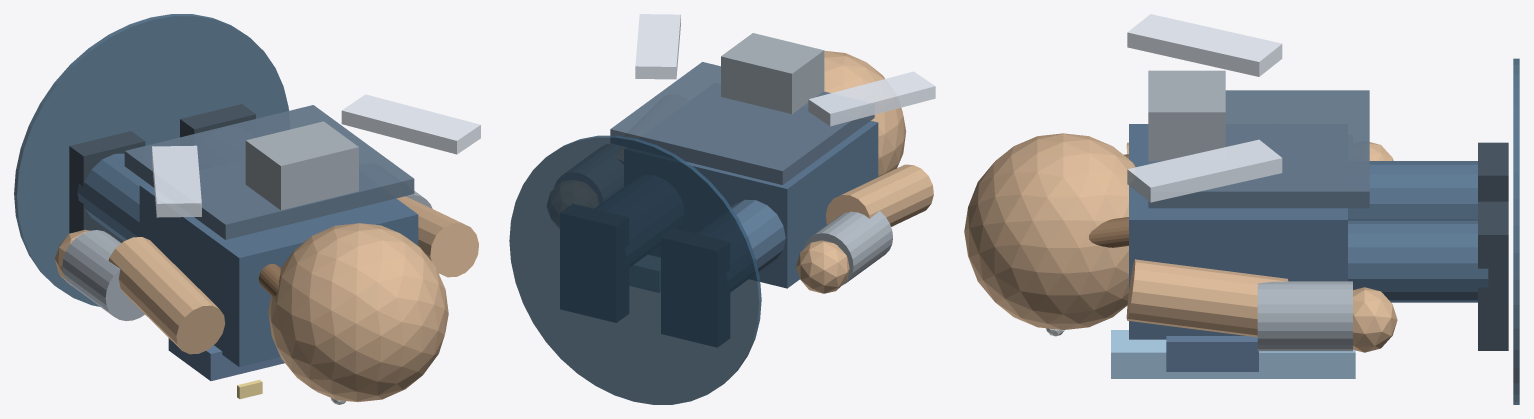
Rendered from SW_NPC_003_cyra_brightmast.glb.
3 views of the same model, side by side, from view 1: azimuth 30°, elevation 25°; view 2: azimuth 150°, elevation 25°; view 3: azimuth 270°, elevation 25° (orthographic). The views are drawn at different scales.
Parts seen in each view (by area): view 1: round_base_plate, head, torso_uniform, storm_cloak, wingpack_core, left_upper_arm, right_wing_rig, left_forearm_gauntlet, left_leg, left_wing_rig, right_upper_arm, left_boot (+4 smaller); view 2: round_base_plate, storm_cloak, torso_uniform, wingpack_core, left_upper_arm, left_wing_rig, head, left_forearm_gauntlet, right_wing_rig, left_leg, left_hand; view 3: head, storm_cloak, torso_uniform, right_leg, right_upper_arm, left_leg, right_forearm_gauntlet, wingpack_core, rank_sash, right_wing_rig, left_wing_rig, right_boot (+5 smaller).
Boxes of the visible parts, x1,y1,x2,y2 form: round_base_plate: (14,14,288,306); head: (268,223,448,402); torso_uniform: (139,183,418,366); storm_cloak: (124,105,414,239); wingpack_core: (245,121,358,210); left_upper_arm: (108,237,225,354); right_wing_rig: (341,94,480,154); left_forearm_gauntlet: (62,230,144,320); left_leg: (77,153,147,240); left_wing_rig: (152,145,201,217); right_upper_arm: (396,196,478,277); left_boot: (69,131,145,242); round_base_plate: (509,135,761,404); storm_cloak: (610,62,874,184); torso_uniform: (686,121,878,288); wingpack_core: (721,33,824,113); left_upper_arm: (825,164,933,226); left_wing_rig: (808,71,935,126); head: (824,50,906,176); left_forearm_gauntlet: (803,211,892,285); right_wing_rig: (635,14,680,79); left_leg: (731,199,785,271); left_hand: (796,240,849,293); head: (964,133,1135,329); storm_cloak: (1148,90,1369,208); torso_uniform: (1129,124,1347,339); right_leg: (1348,220,1488,302); right_upper_arm: (1126,259,1288,337); left_leg: (1348,161,1477,220); right_forearm_gauntlet: (1257,281,1352,351); wingpack_core: (1148,70,1225,160); rank_sash: (1111,330,1355,378); right_wing_rig: (1127,139,1282,202); left_wing_rig: (1127,14,1282,76); right_boot: (1478,201,1508,350).
Size of the model in its own units: 1.26 by 1.05 by 1.68.
